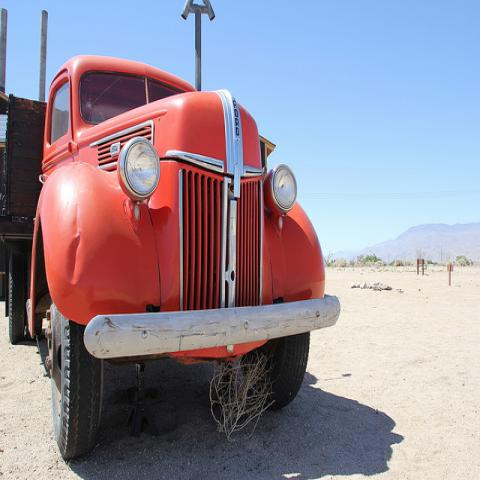truck: (0, 58, 342, 465)
